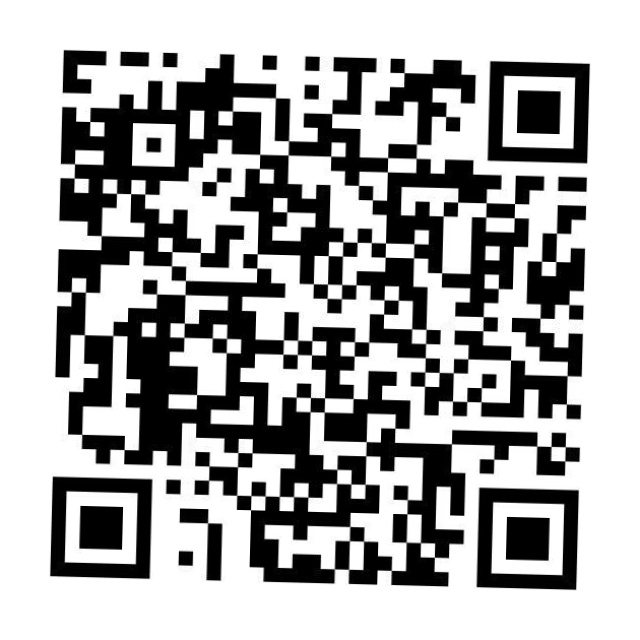qr-code: (39, 37, 601, 601)
